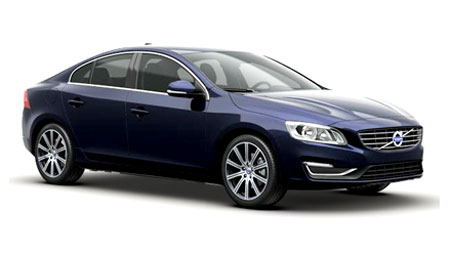sedan: (20, 43, 424, 207)
